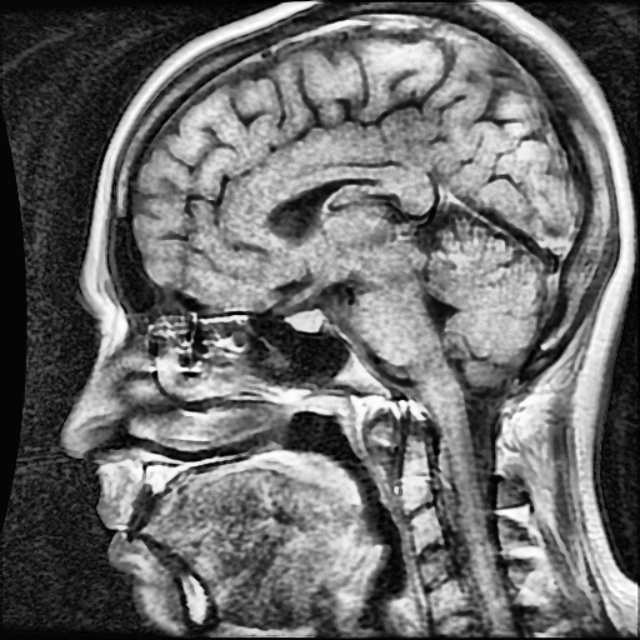Pituitary: (283, 312, 325, 335)
